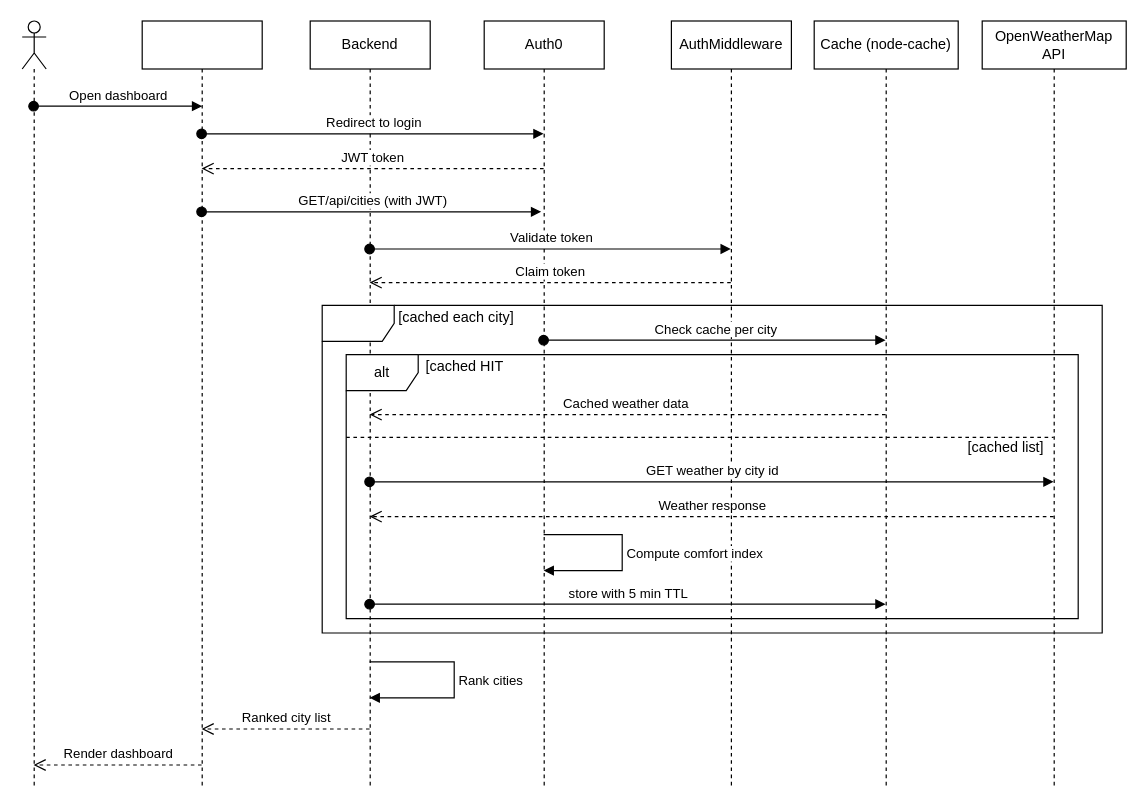
Image size: 1147x810. Some labels were removed from this diagram. The shapes that lost their labels are listed below. From the top down, each one's box as (x1, y1, x2, y2) in pixels, then its label:
(141, 20, 262, 789): Frontend
(321, 304, 1102, 633): loop
